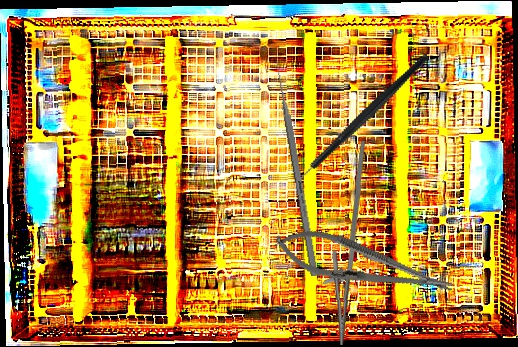Chopper: (263, 53, 459, 198)
Needle Holder: (270, 219, 458, 311), (319, 141, 370, 345)
Pusher: (272, 55, 319, 277)
